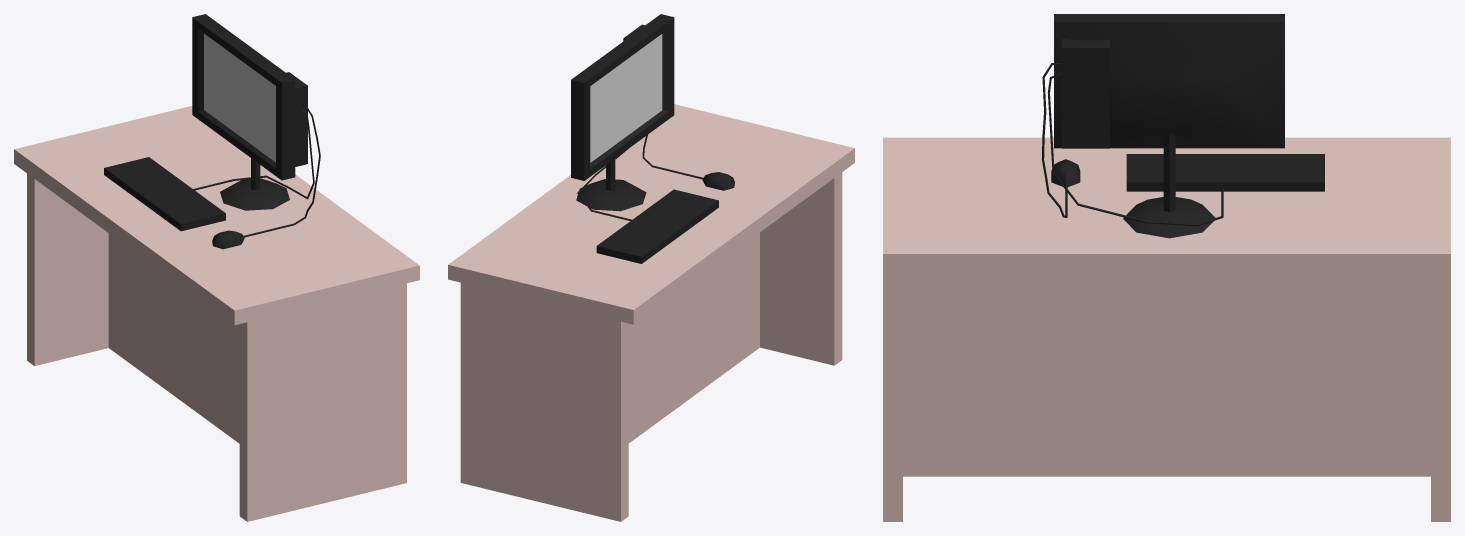
The model's file is Bancada PC.fbx.
The picture shows the model from 3 angles, left to right: view 1: azimuth 30°, elevation 25°; view 2: azimuth 150°, elevation 25°; view 3: azimuth 270°, elevation 25°; orthographic projection. The views are drawn at different scales.
Visible parts, largest first — view 1: Cubo.004, Cilindro.127; view 2: Cubo.004, Cilindro.127; view 3: Cubo.004, Cilindro.127.
Boxes of the visible parts, left/top/right/bottom form: Cubo.004: left=14, top=106, right=419, bottom=521; Cilindro.127: left=104, top=14, right=320, bottom=249; Cubo.004: left=448, top=104, right=854, bottom=521; Cilindro.127: left=571, top=14, right=734, bottom=263; Cubo.004: left=883, top=137, right=1450, bottom=521; Cilindro.127: left=1042, top=14, right=1324, bottom=238.
Bounding box in the file's own units: 200 × 378 × 413.
